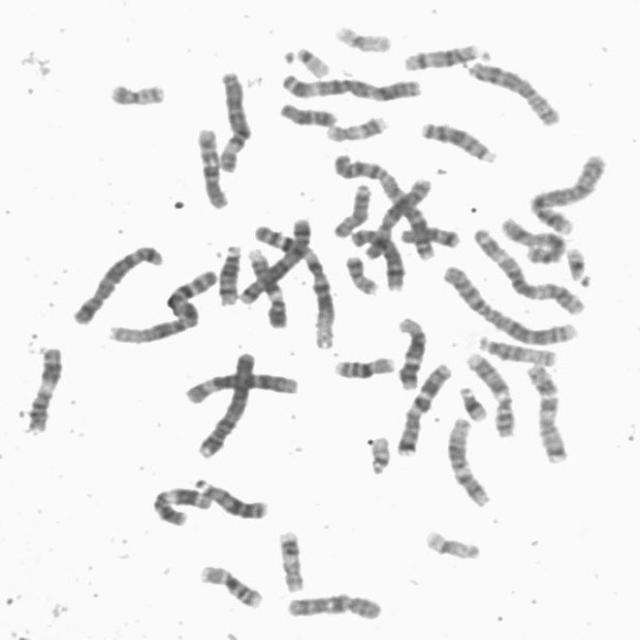A1: (248, 216, 340, 351), (102, 262, 221, 346)
A2: (327, 147, 440, 261), (438, 260, 581, 348)
A3: (468, 221, 590, 316), (276, 67, 426, 104)
B4: (192, 343, 260, 460), (526, 147, 611, 235)
B5: (68, 238, 167, 326), (236, 211, 316, 305)
C10: (282, 586, 387, 622), (192, 120, 233, 210)
C11: (22, 339, 67, 435), (148, 480, 216, 527)
C12: (443, 411, 495, 508), (392, 312, 430, 392)
C6: (180, 365, 302, 405), (213, 64, 256, 173)
C7: (392, 356, 457, 456), (521, 357, 573, 465)
C8: (464, 53, 566, 128), (346, 222, 409, 292)
C9: (462, 347, 520, 438), (243, 243, 291, 329)
D13: (190, 470, 272, 521), (417, 115, 502, 164)
D14: (398, 36, 489, 72), (213, 238, 246, 306)
D15: (474, 329, 560, 367), (328, 178, 376, 239)
E16: (195, 557, 268, 610), (330, 350, 400, 380)
E17: (274, 524, 310, 594), (321, 109, 392, 143)
E18: (274, 95, 342, 128), (396, 220, 464, 249)
F19: (420, 524, 485, 562), (329, 18, 396, 54)
F20: (104, 75, 170, 107), (341, 250, 383, 296)
G21: (456, 380, 492, 422), (562, 240, 594, 286)
G22: (289, 40, 334, 79), (364, 430, 396, 476)
X: (360, 172, 437, 262), (496, 211, 570, 265)
